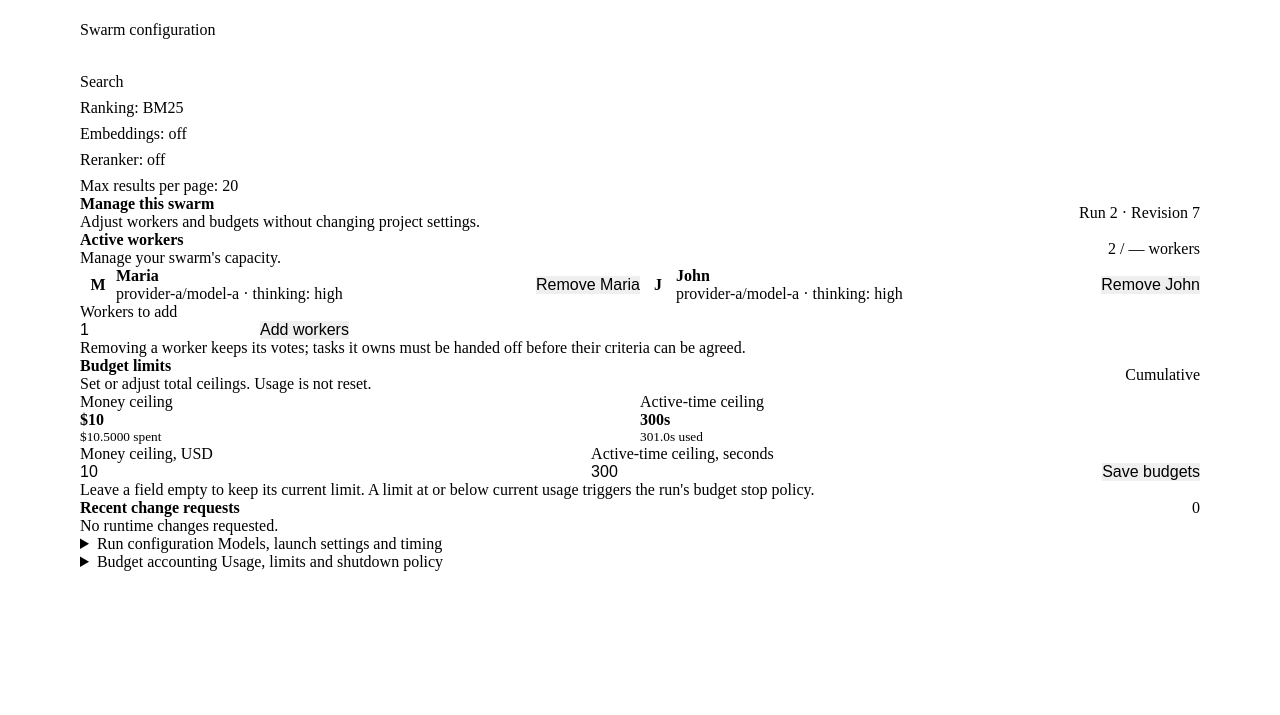
submits revision-bound add, remove and budget requests and renders effective results
Replace the text in the field labelled "Workers to add" with "2" at (170, 330), box x1=80 y1=320 x2=260 y2=338
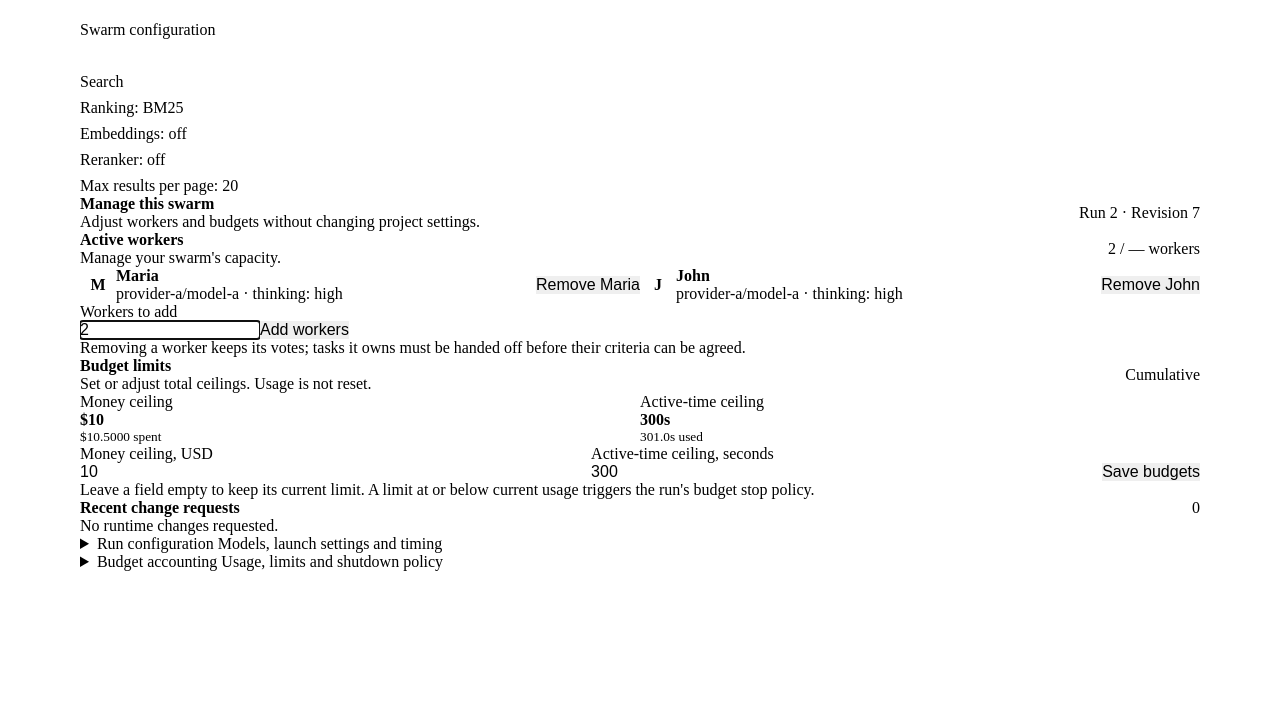
Click the button "Add workers" at (304, 330), box x1=260 y1=320 x2=349 y2=338
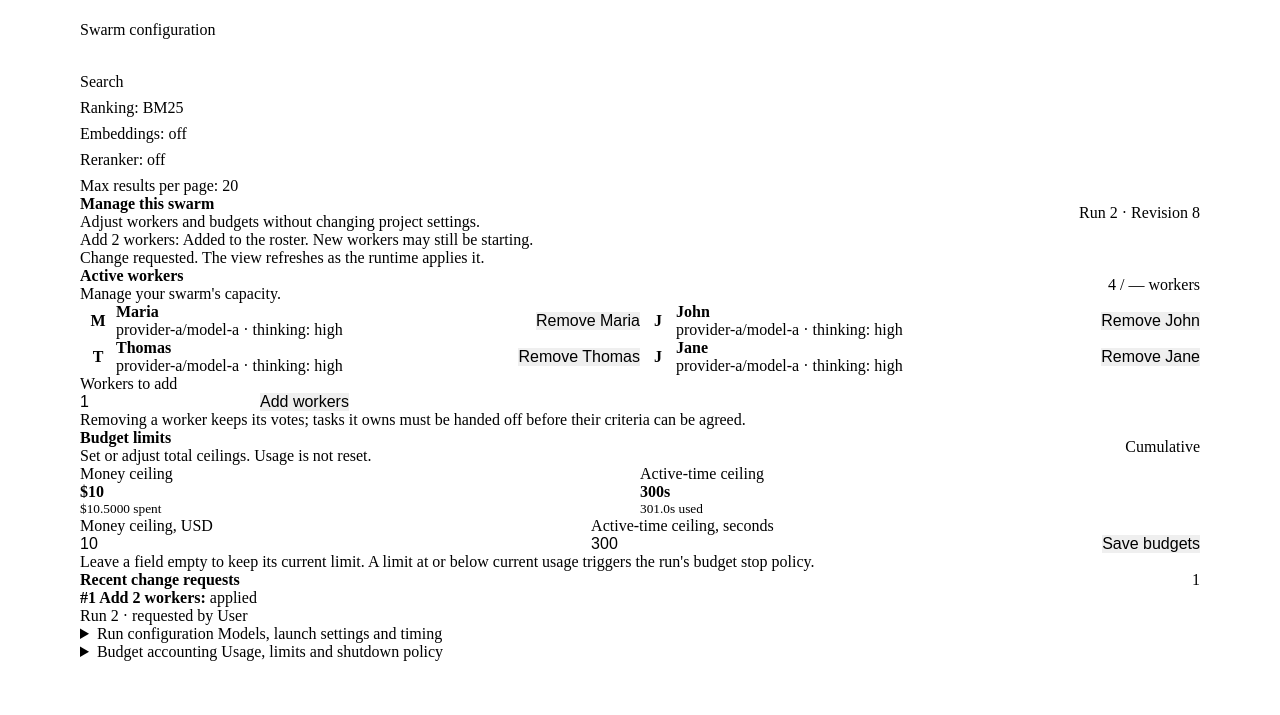
Expected: the button "Remove Thomas" is shown, x1=518 y1=348 x2=640 y2=366
Click the button "Remove John" at (1151, 320), box x1=1101 y1=312 x2=1200 y2=330
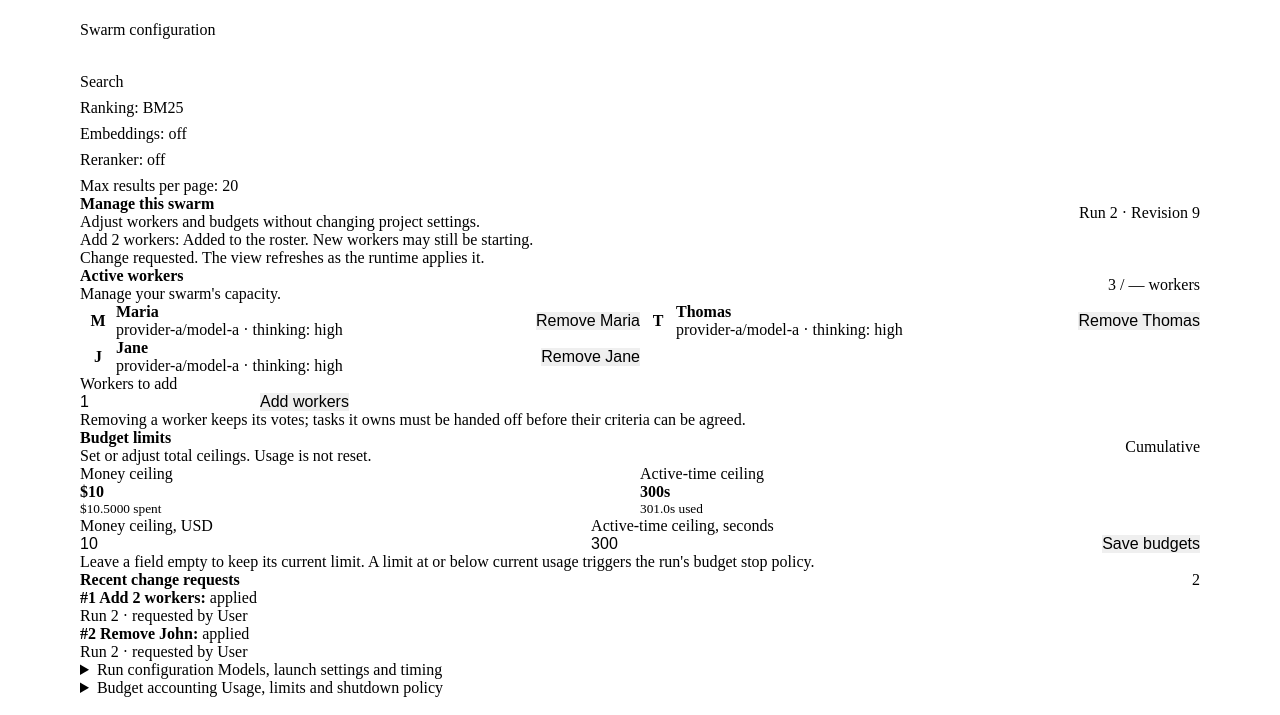
Type "20" into the field named "New money ceiling, USD" at (336, 544), box x1=80 y1=534 x2=591 y2=552
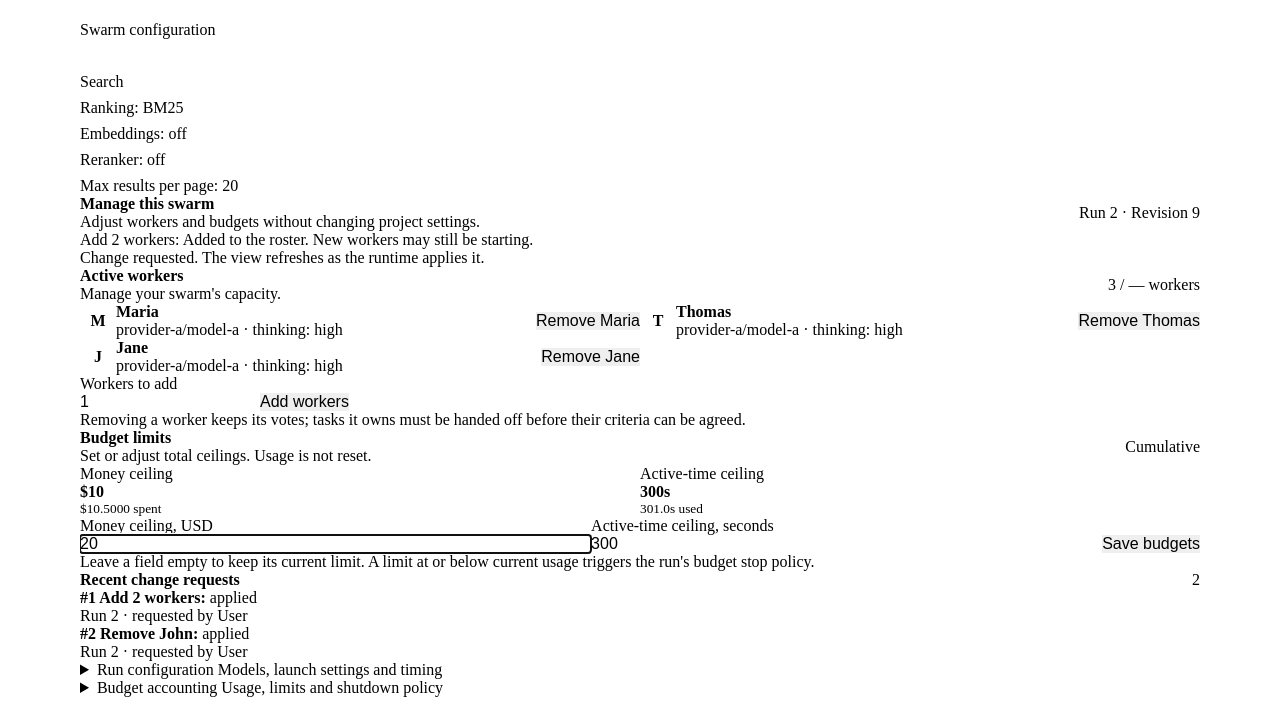
Click the button "Save budgets" at (1151, 544), box x1=1102 y1=534 x2=1200 y2=552
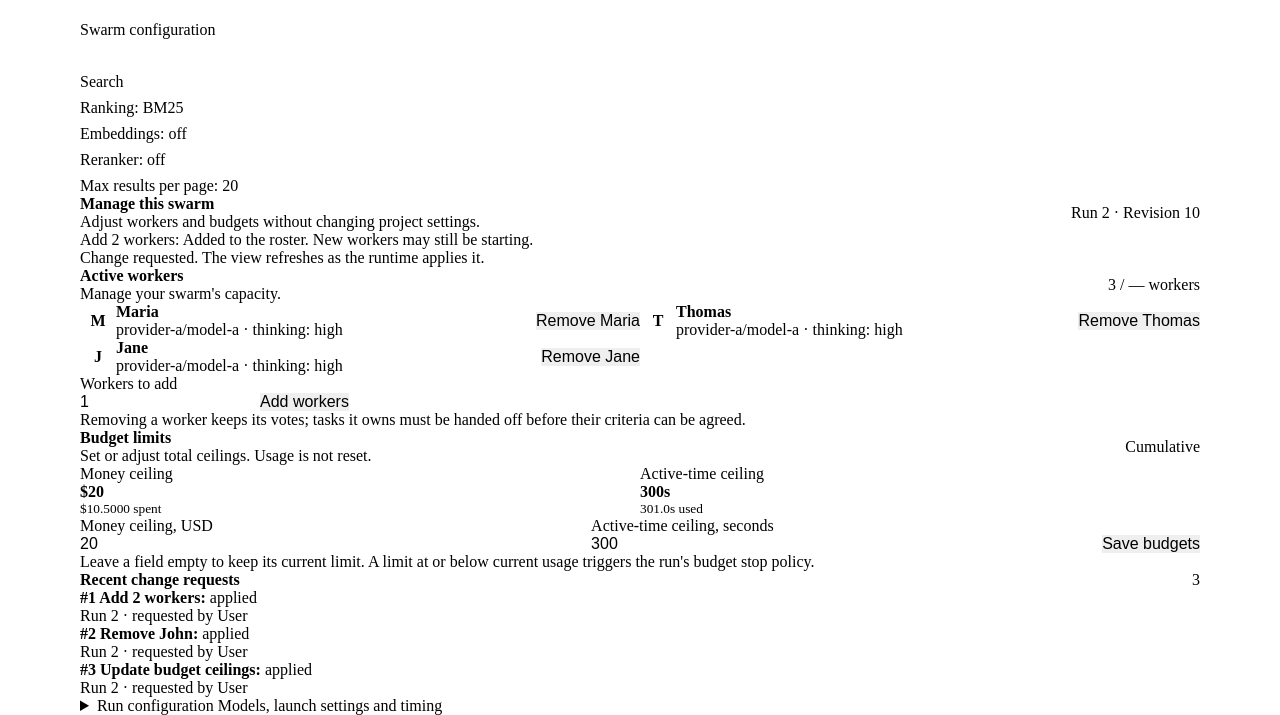
Expected: the text "#3 Update budget ceilings:" shows "applied", x1=265 y1=660 x2=312 y2=678
